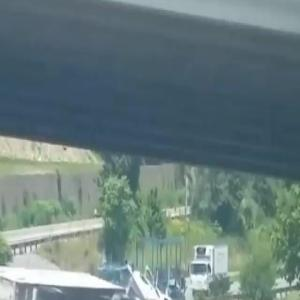severe: (0, 254, 183, 300)
